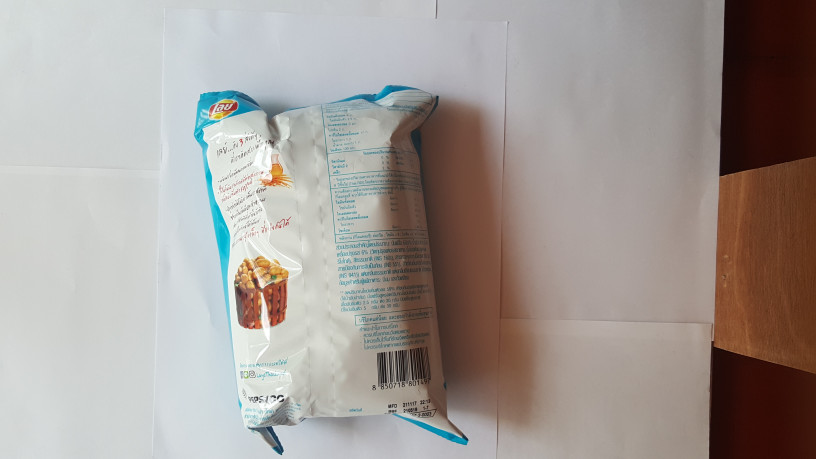lays-onion: (178, 78, 474, 459)
